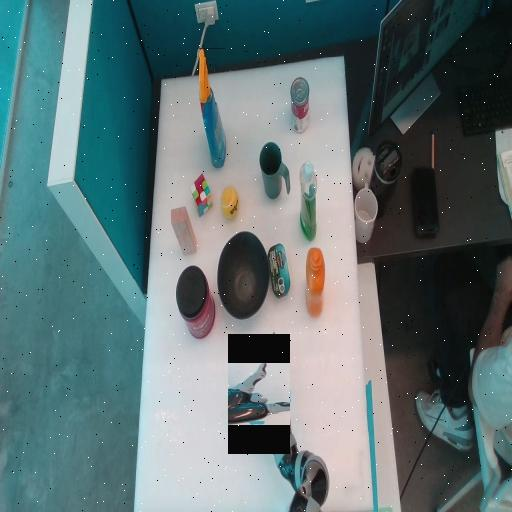bowl: (218, 232, 268, 318)
cleanser: (300, 162, 316, 241)
coffee_can: (175, 283, 214, 322)
jaco: (228, 363, 290, 424)
meat_can: (268, 245, 289, 298)
mug: (259, 143, 289, 199)
mustard_bottle: (305, 273, 324, 292)
rubik: (190, 185, 212, 207)
soup_can: (290, 97, 308, 115)
tennis_ball: (221, 188, 238, 218)
windex: (198, 49, 225, 167)
wooden_block: (171, 208, 195, 254)
workspace: (135, 57, 372, 509)
